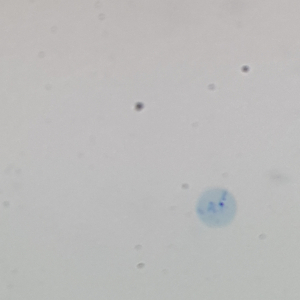aggregate reticulocyte: (194, 187, 238, 231)
